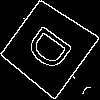D: (23, 23, 82, 80)
